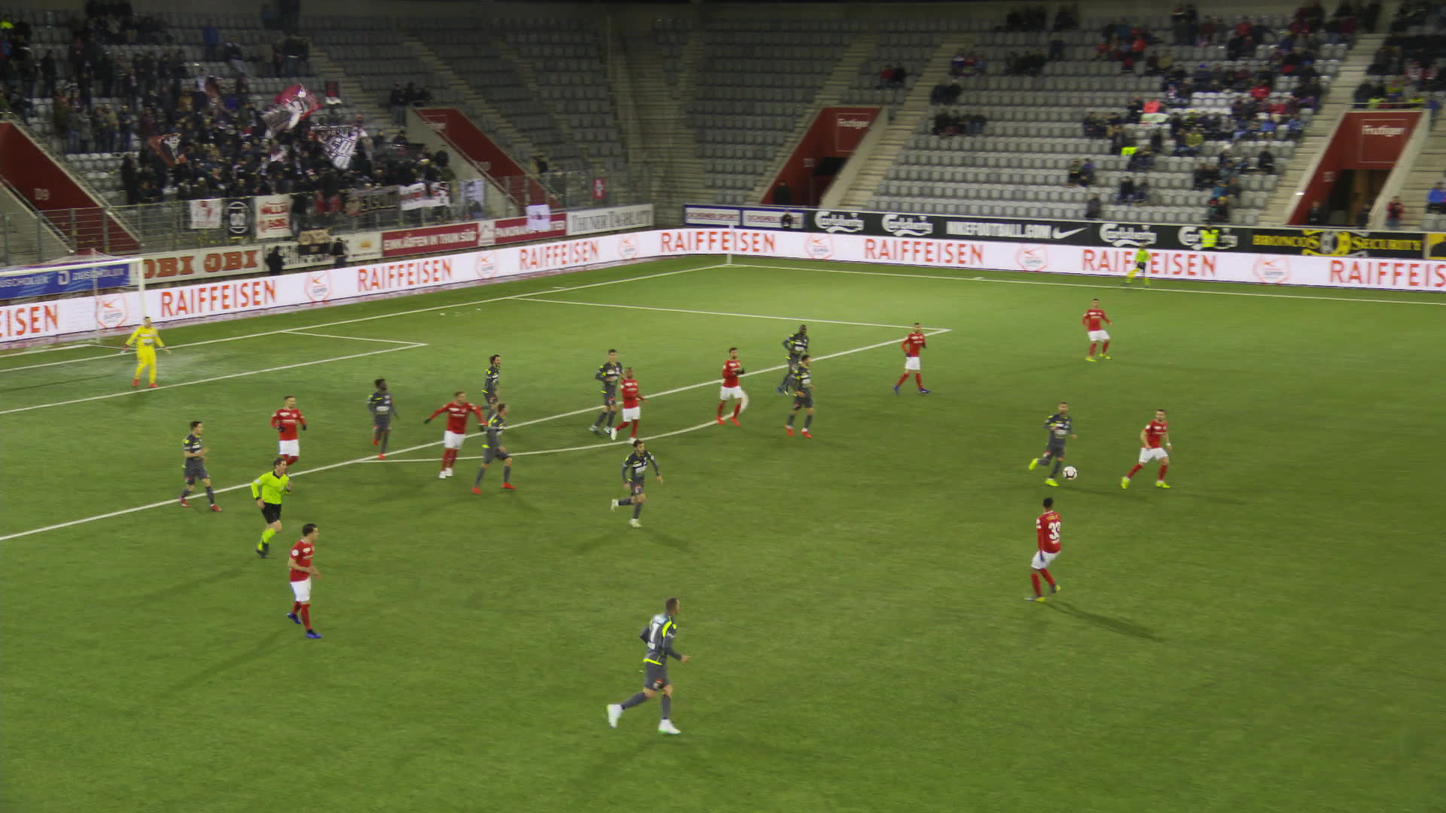ball: (1062, 468, 1074, 480)
player: (614, 598, 682, 737), (1010, 492, 1072, 602), (429, 391, 482, 480), (286, 522, 324, 637), (469, 401, 515, 493), (1130, 411, 1179, 492), (584, 349, 628, 437), (614, 441, 660, 525), (1034, 398, 1075, 486), (122, 317, 172, 388), (178, 422, 213, 512), (469, 353, 510, 426), (274, 392, 307, 476), (785, 357, 819, 438), (767, 327, 808, 392), (368, 376, 398, 458), (614, 367, 645, 446), (715, 349, 745, 428), (1082, 296, 1117, 362), (899, 325, 928, 397)
referee: (239, 458, 291, 559), (1134, 241, 1152, 287)
